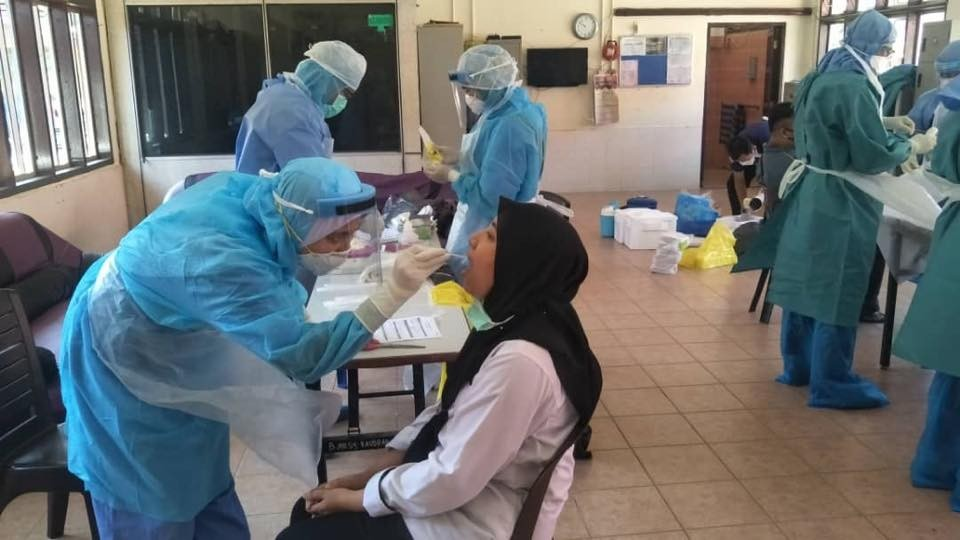Coverall: (62, 151, 366, 540), (765, 3, 903, 385), (224, 69, 352, 292), (441, 47, 552, 302)
Face_Shield: (269, 181, 387, 289), (445, 63, 509, 135)
mask_weared_incorrect: (457, 213, 516, 333)
with_mask: (320, 85, 355, 123), (870, 37, 900, 78)
